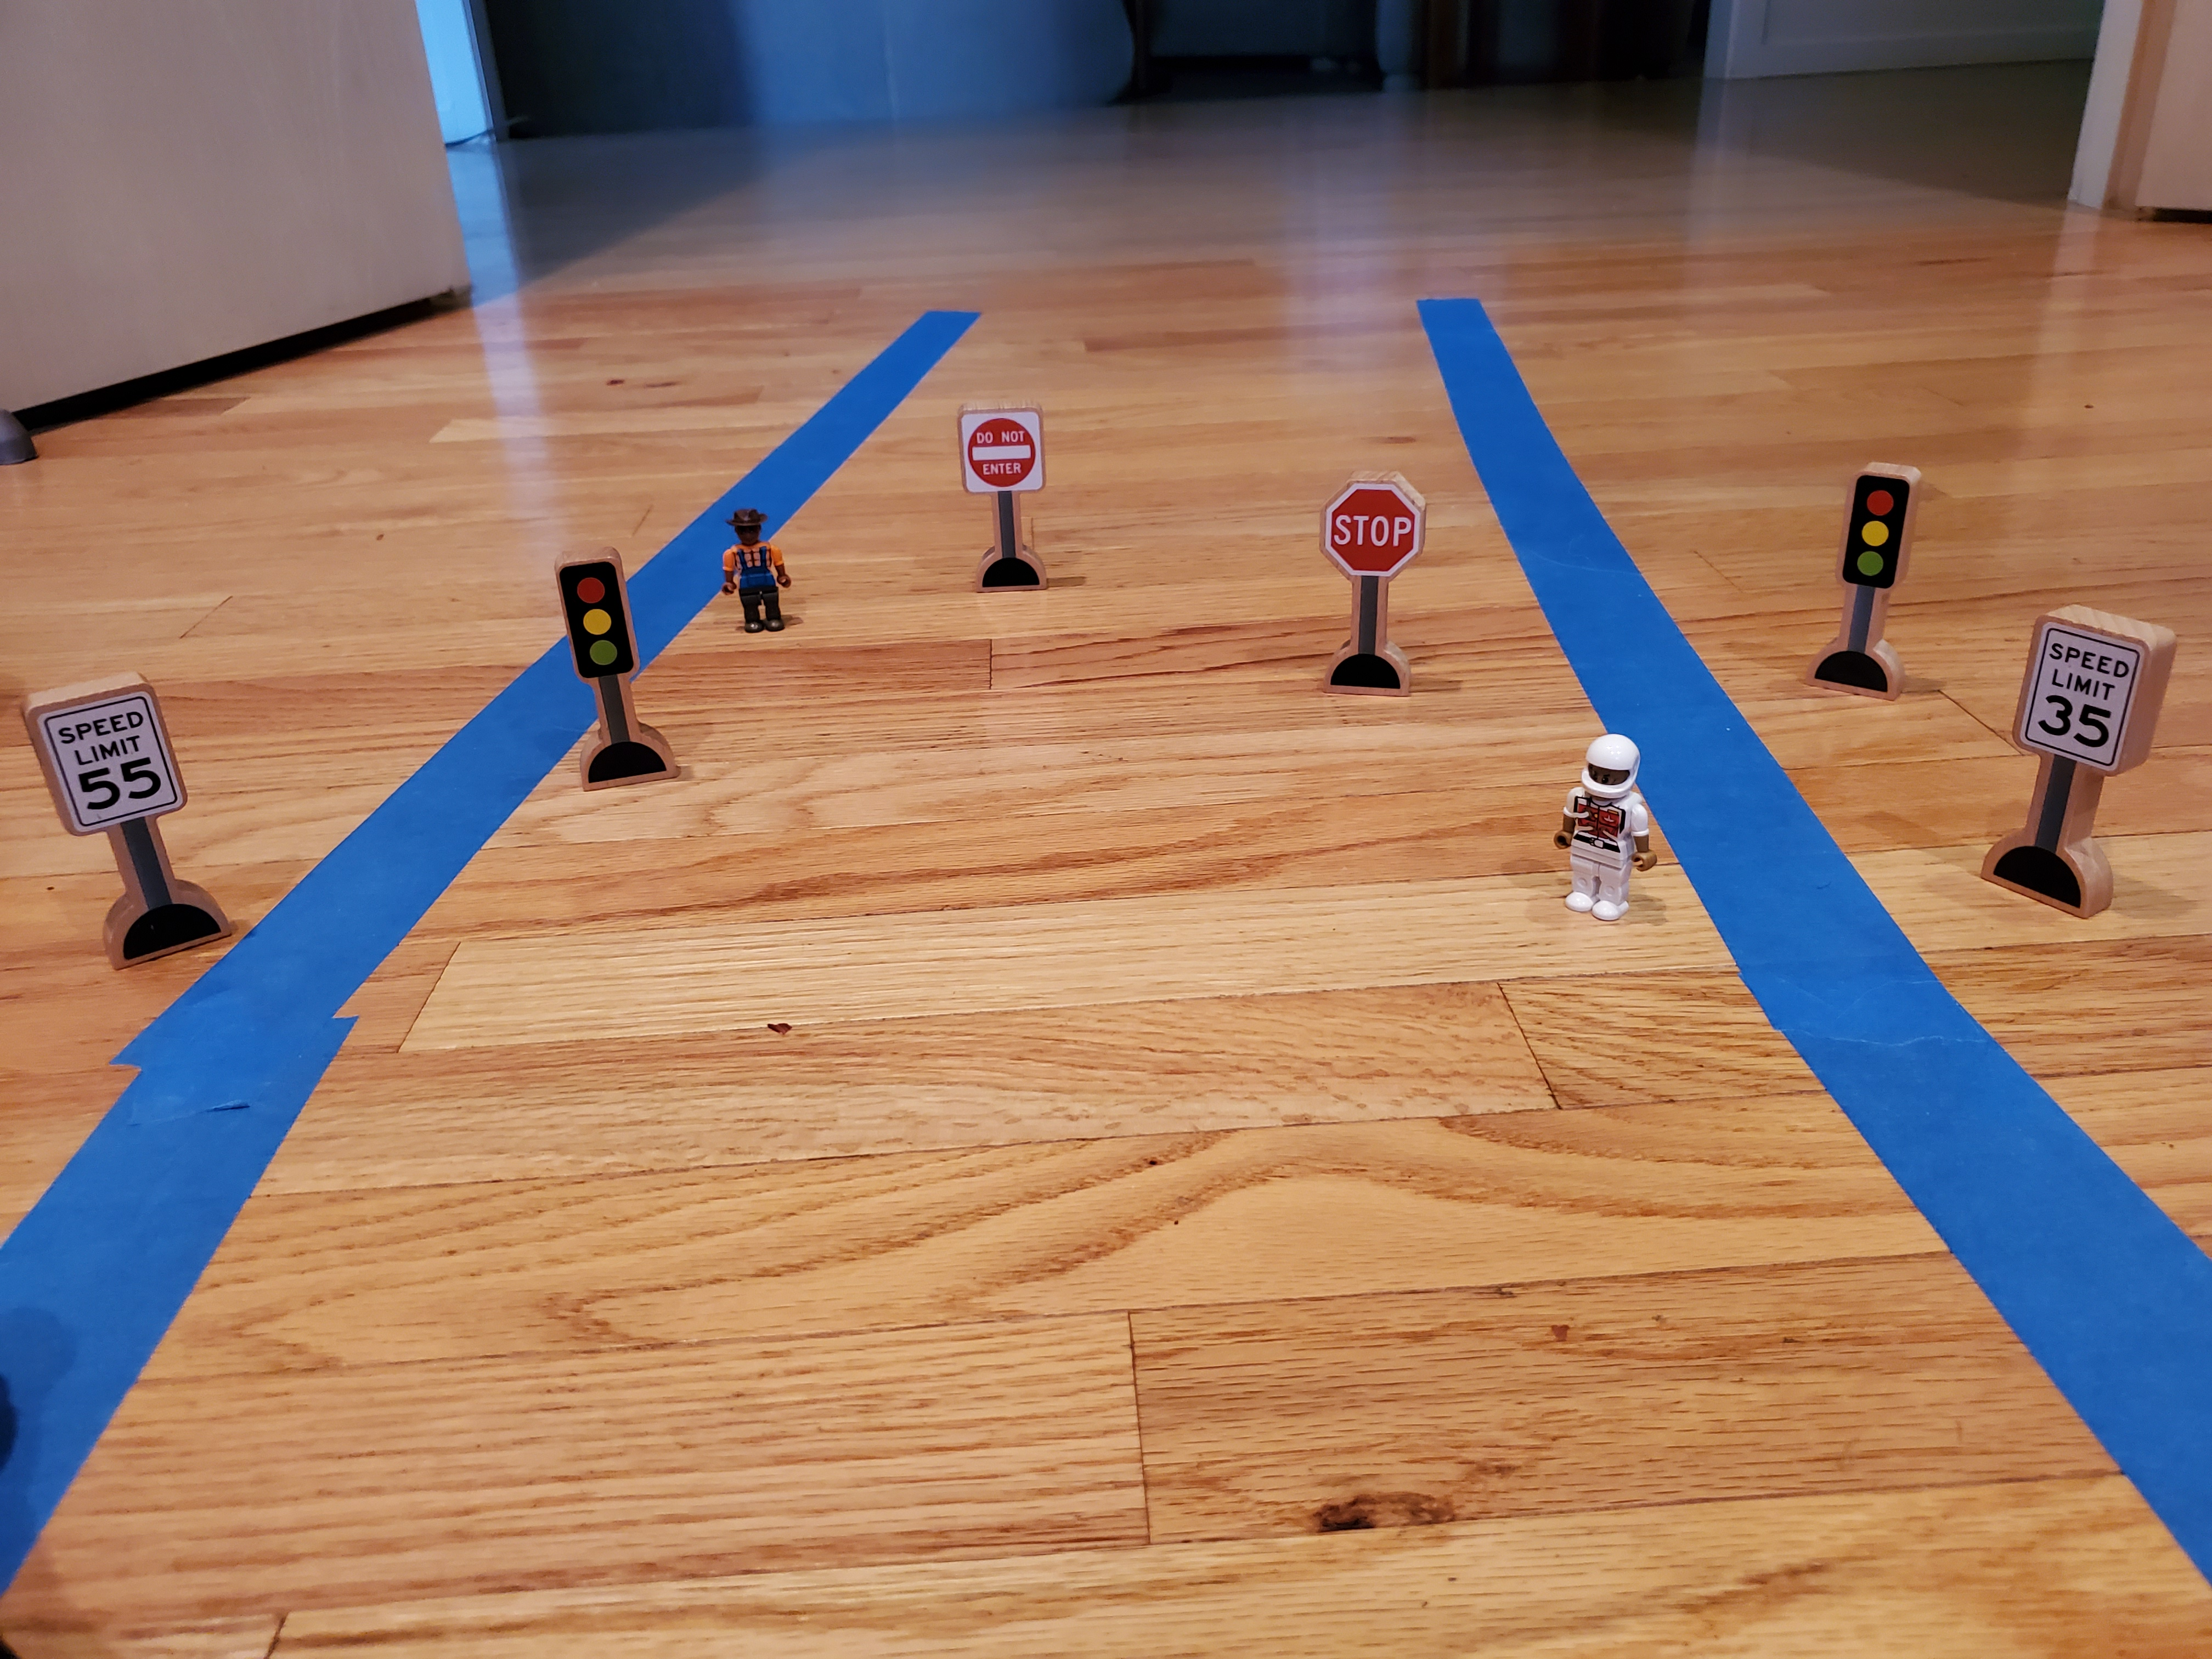Do Not Enter: (954, 392, 1053, 505)
Red Traffic Light: (1832, 447, 1936, 622), (544, 546, 657, 699)
Speed Limit 35: (2004, 599, 2181, 779)
Speed Limit 55: (16, 686, 210, 840)
Stop Sign: (1311, 464, 1432, 599)
person: (1541, 726, 1670, 927), (712, 506, 803, 644)
